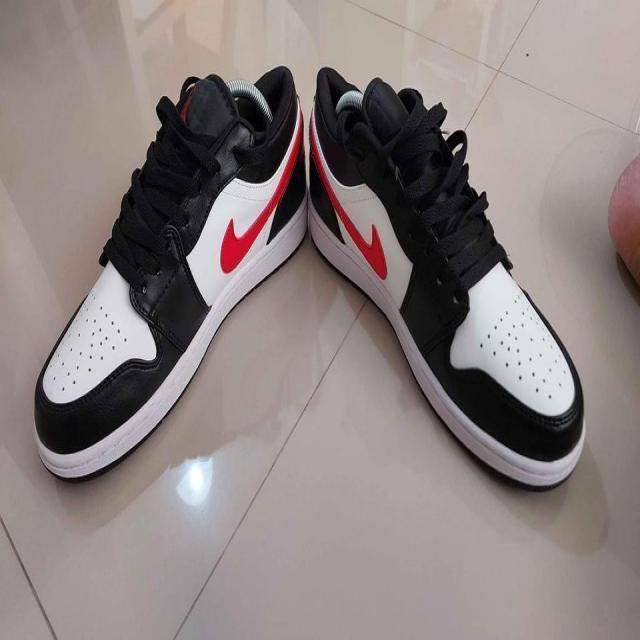nike fake jordan 1: (32, 58, 334, 484), (306, 59, 586, 497)
